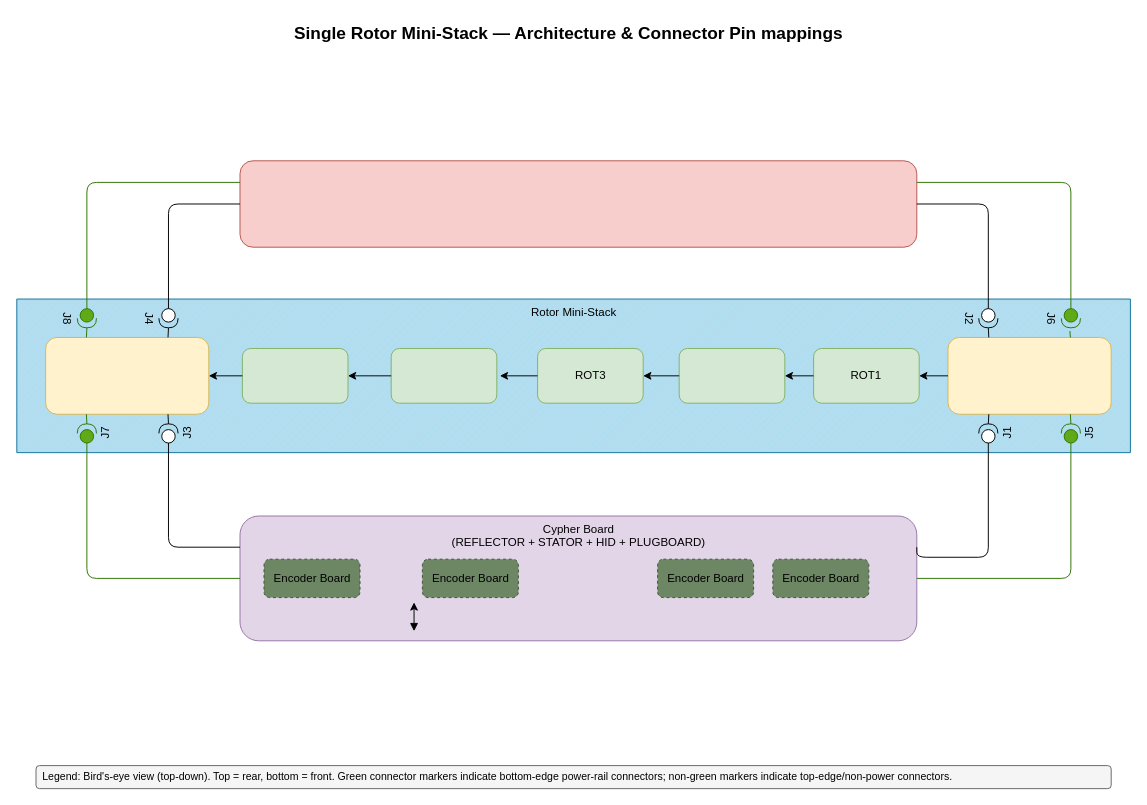
This 1147x805 diagram has some shape labels left out. Here are the shapes that lost their labels. From the top down, the centre of each, then its label:
the point at 578,203: Stack-Blanking (Terminator)
the point at 127,375: Stack-Output
the point at 294,375: ROT5
the point at 443,375: ROT4
the point at 731,375: ROT2
the point at 1029,375: Stack-Input
